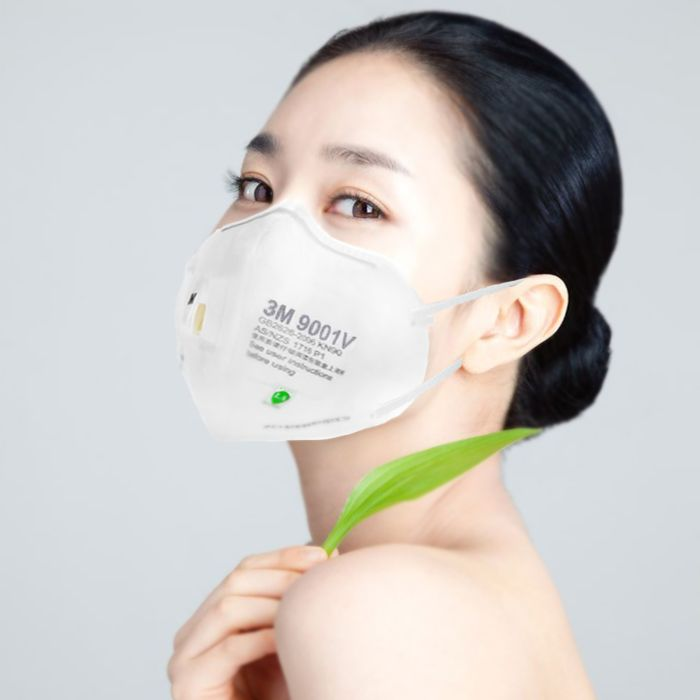face_mask: (197, 60, 468, 426)
